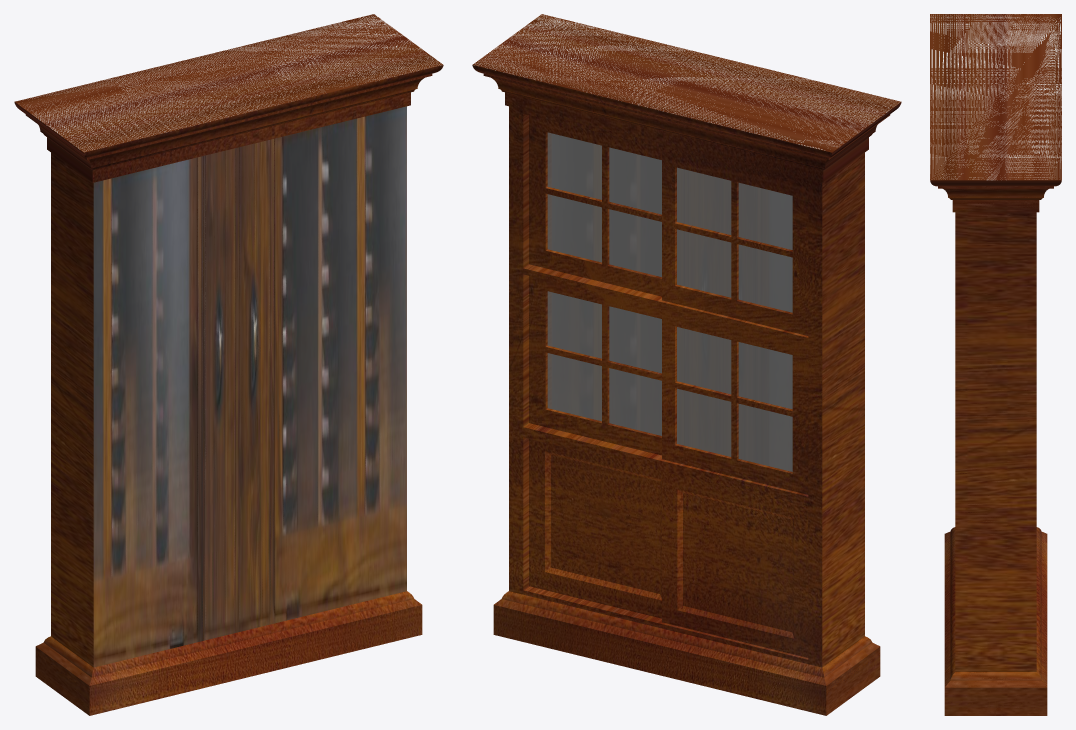
The picture shows the model from 3 angles, left to right: view 1: azimuth 30°, elevation 25°; view 2: azimuth 150°, elevation 25°; view 3: azimuth 270°, elevation 25°; orthographic projection. The views are drawn at different scales.
Parts seen in each view (by area): view 1: mesh3_mesh3-geometry, mesh4_mesh4-geometry, mesh2_mesh2-geometry; view 2: mesh4_mesh4-geometry, mesh5_mesh5-geometry, mesh3_mesh3-geometry, mesh2_mesh2-geometry; view 3: mesh1_mesh1-geometry, mesh4_mesh4-geometry.
Boxes of the visible parts, x1,y1,x2,y2 form: mesh3_mesh3-geometry: (93, 106, 406, 667); mesh4_mesh4-geometry: (14, 14, 443, 715); mesh2_mesh2-geometry: (51, 153, 93, 667); mesh4_mesh4-geometry: (472, 14, 901, 715); mesh5_mesh5-geometry: (547, 132, 792, 471); mesh3_mesh3-geometry: (552, 134, 791, 470); mesh2_mesh2-geometry: (822, 153, 864, 667); mesh1_mesh1-geometry: (955, 212, 1036, 671); mesh4_mesh4-geometry: (930, 14, 1061, 715).
Size of the model in its own units: 0.5405 by 0.8217 by 0.181.
